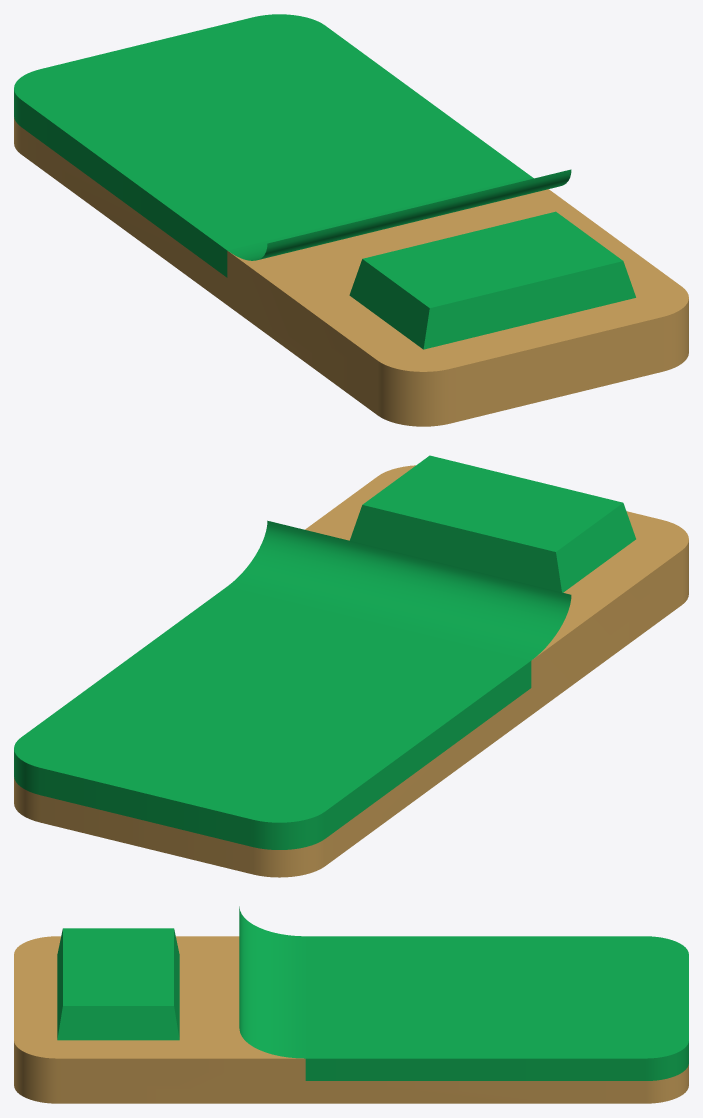
Rendered from bedroll.obj.
3 renders of one model, top to bottom at view 1: azimuth 30°, elevation 25°; view 2: azimuth 150°, elevation 25°; view 3: azimuth 270°, elevation 25°, orthographic. The views are drawn at different scales.
Parts seen in each view (by area): view 1: bedroll; view 2: bedroll; view 3: bedroll.
Part boxes in pixels (left/top/right/bottom): bedroll: left=14, top=14, right=688, bottom=426; bedroll: left=14, top=455, right=688, bottom=877; bedroll: left=14, top=906, right=688, bottom=1103.
Bounding box in the file's own units: 0.2604 × 0.0748 × 0.6076.
